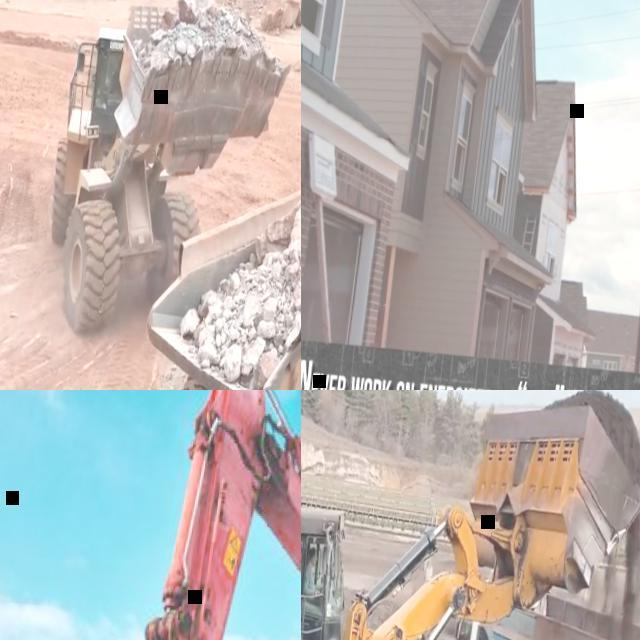machinery: (36, 0, 301, 356), (301, 390, 640, 640), (0, 390, 301, 640), (121, 131, 301, 390), (437, 568, 640, 640)
no_helmet: (309, 546, 317, 556)
no_mask: (312, 560, 318, 566)
no_vest: (304, 564, 318, 590)
person: (302, 545, 332, 610)
